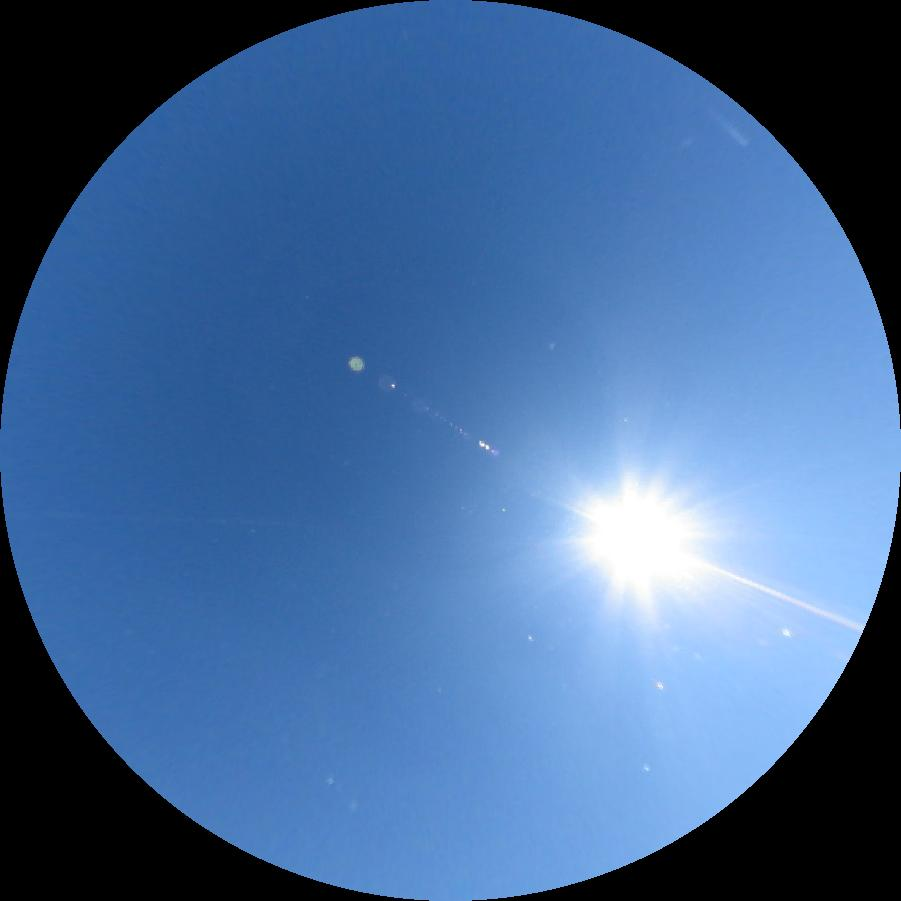contrail young: (706, 106, 749, 149)
parasite: (691, 558, 863, 630), (4, 507, 295, 526)
sun: (582, 479, 700, 594)
